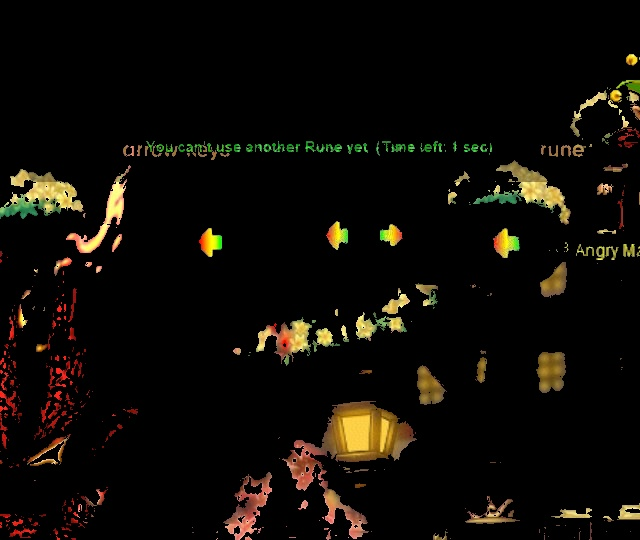left: (189, 222, 232, 264), (316, 215, 356, 256), (485, 226, 526, 264)
right: (375, 218, 411, 253)
